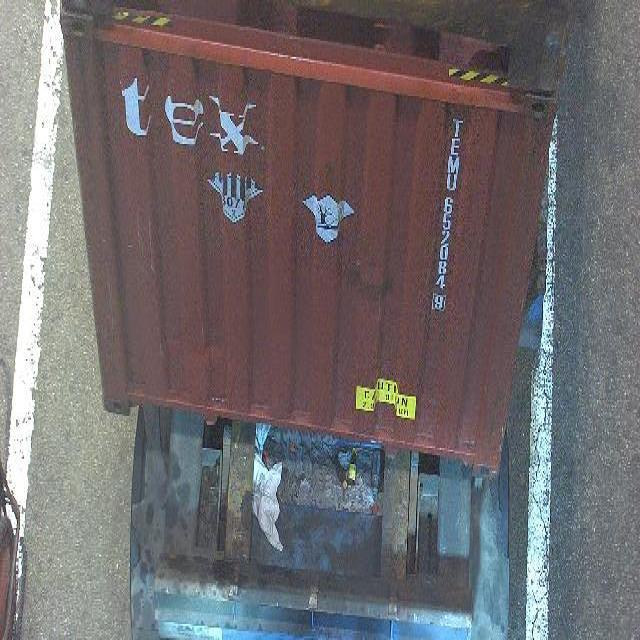container_number: (424, 88, 472, 338)
